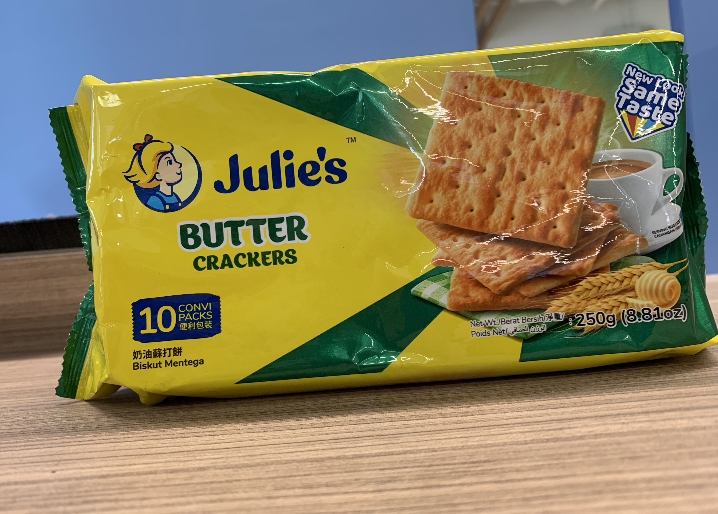crackers_150g: (127, 80, 681, 343)
